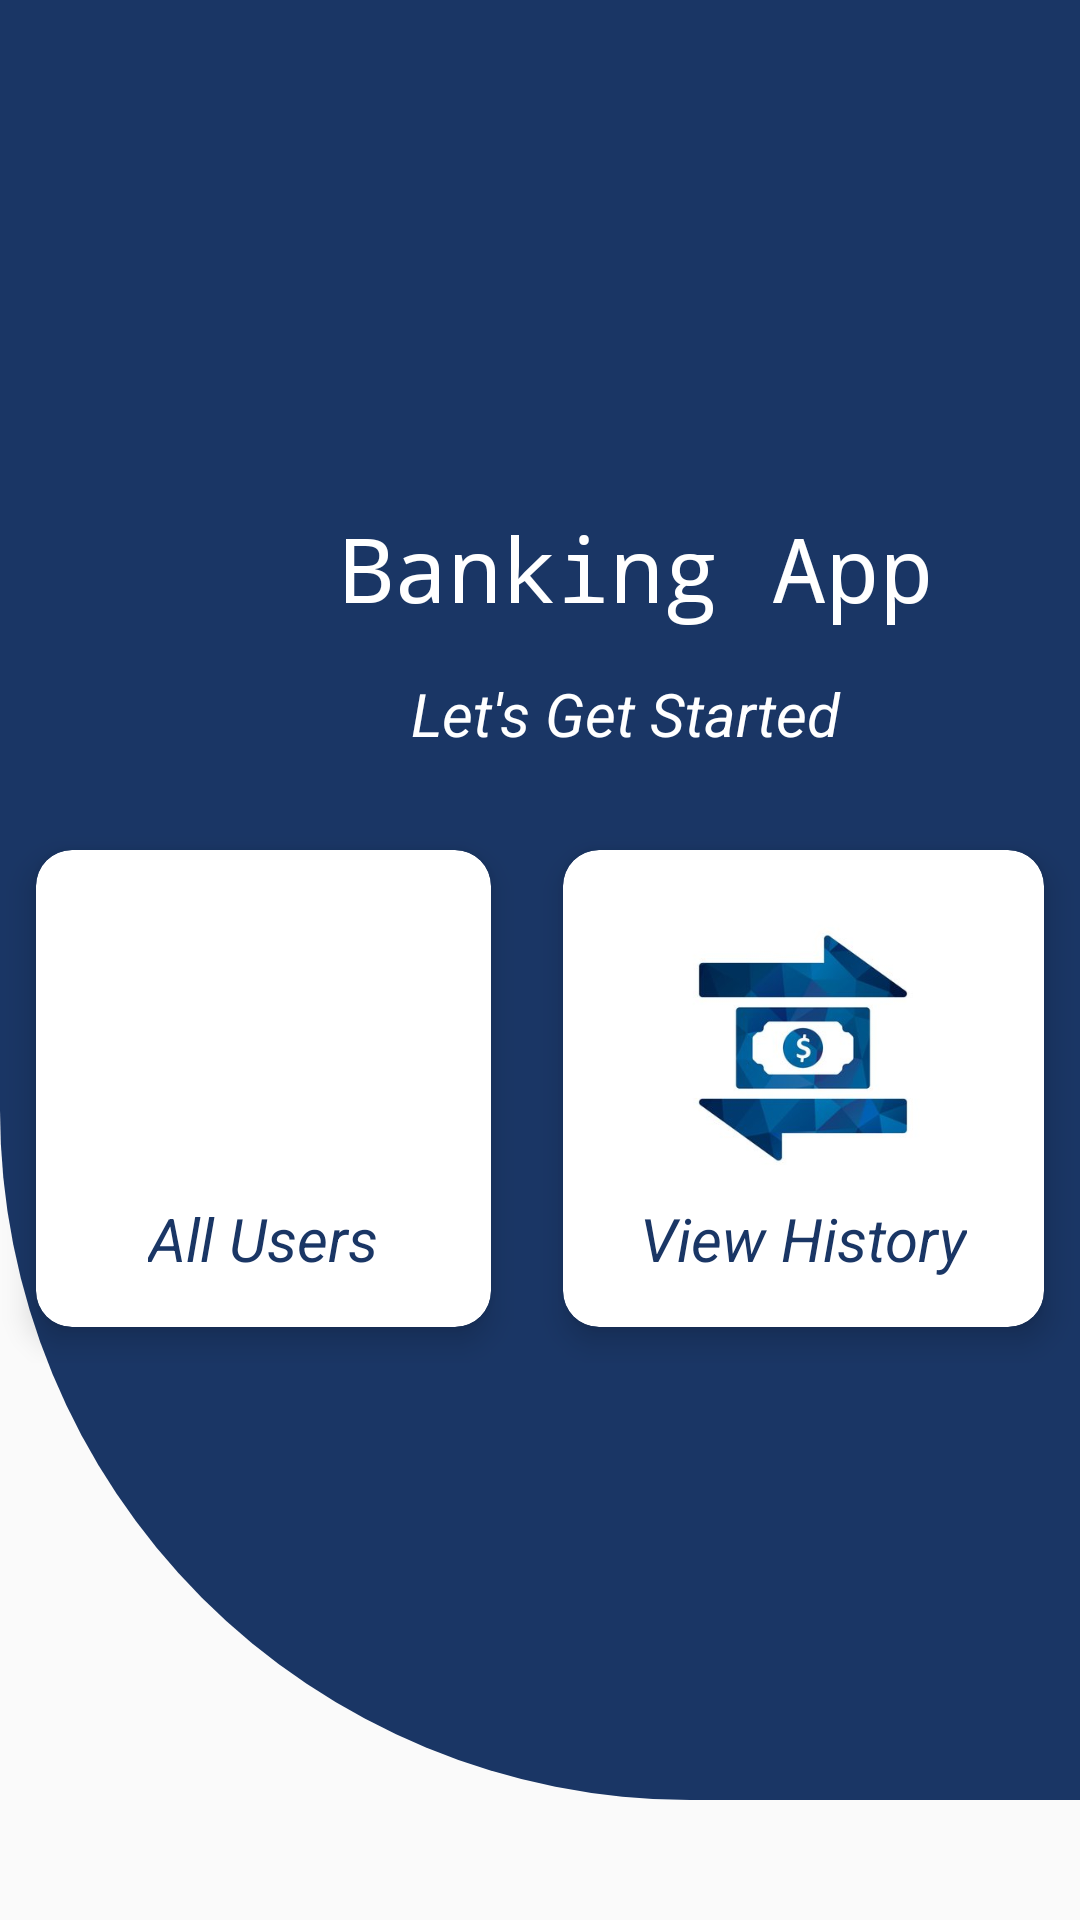

Named icons in this screenshot (1080px x 1920px) and their bounding boxes, (x1, y1, x2, y2):
transactionicon: (698, 935, 908, 1161)
